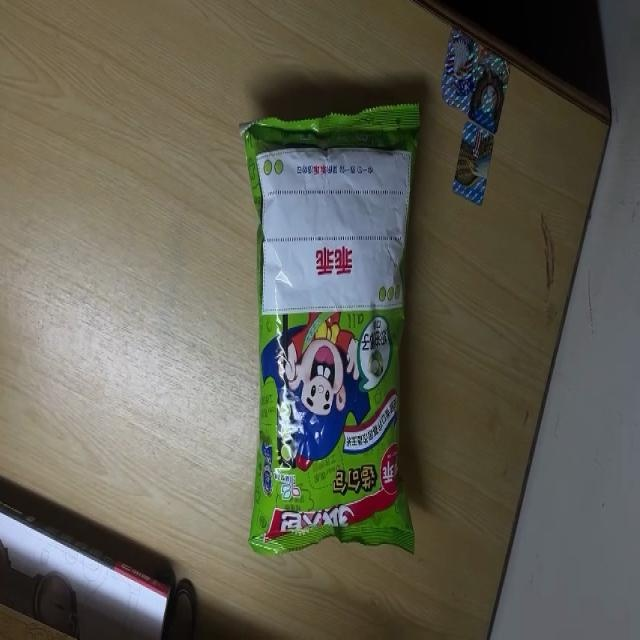Good-Luck: (238, 104, 421, 559)
